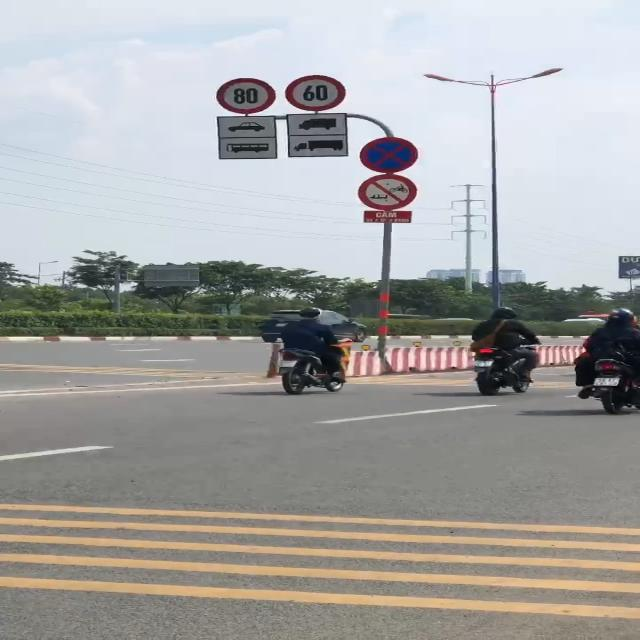Bien bao cam dung xe va do xe: (357, 136, 423, 172)
Bien bao toc do toi da cho phep: (212, 76, 276, 118), (282, 73, 350, 112)
